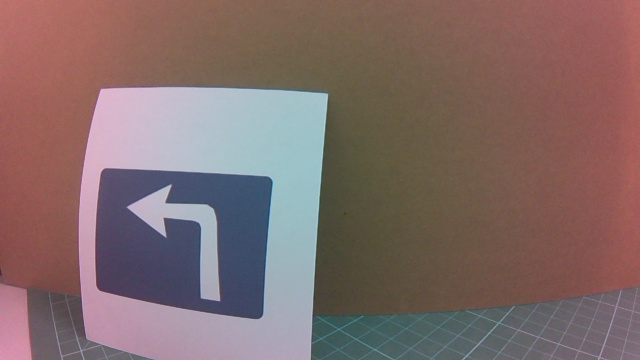left: (84, 159, 313, 319)
